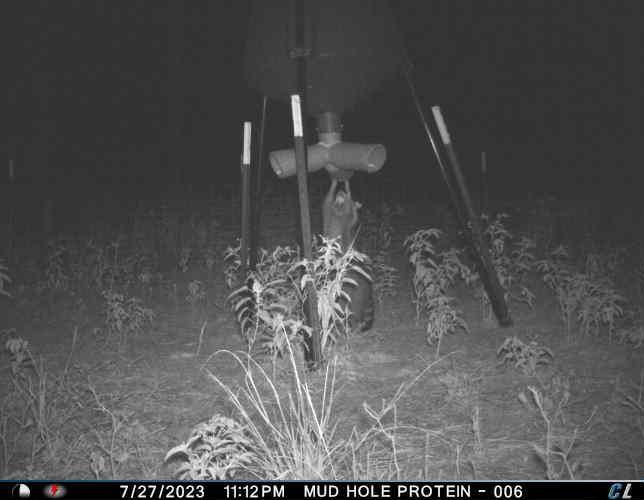Raccoon: (319, 173, 365, 261), (338, 267, 378, 337)
